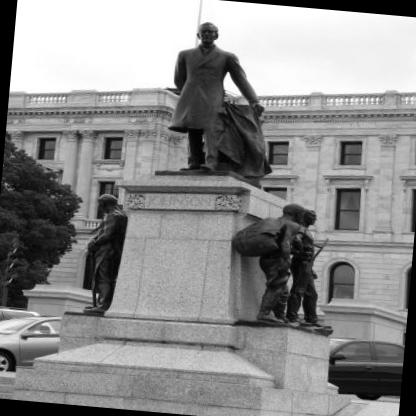car: (313, 325, 407, 409)
